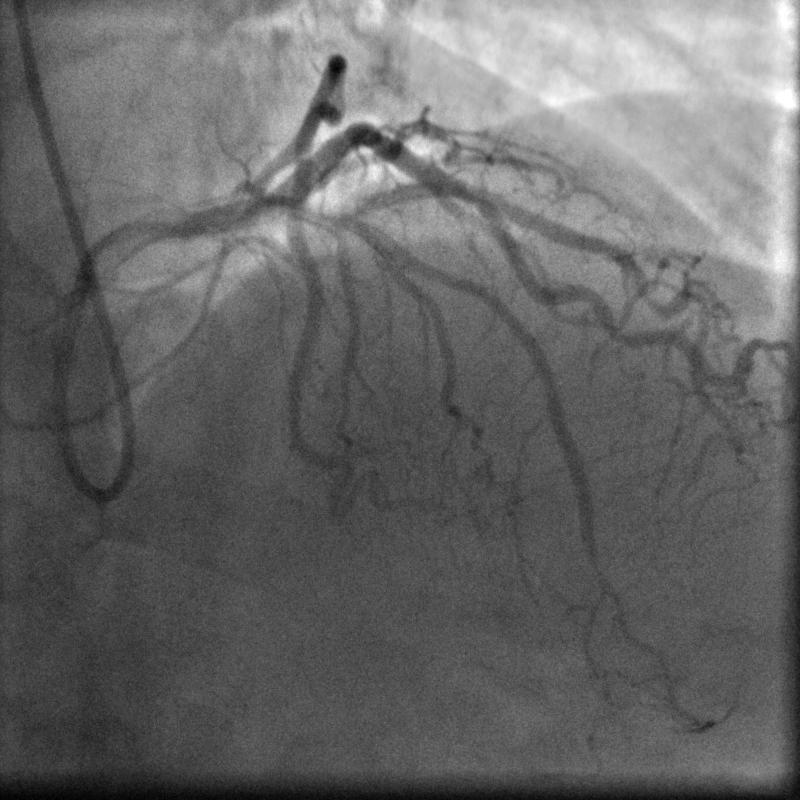Stenosis: (448, 176, 487, 217)
